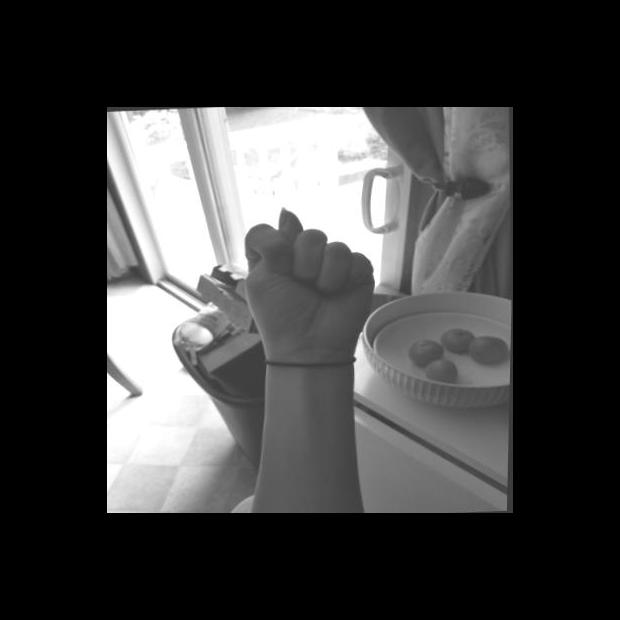S: (233, 202, 384, 366)
